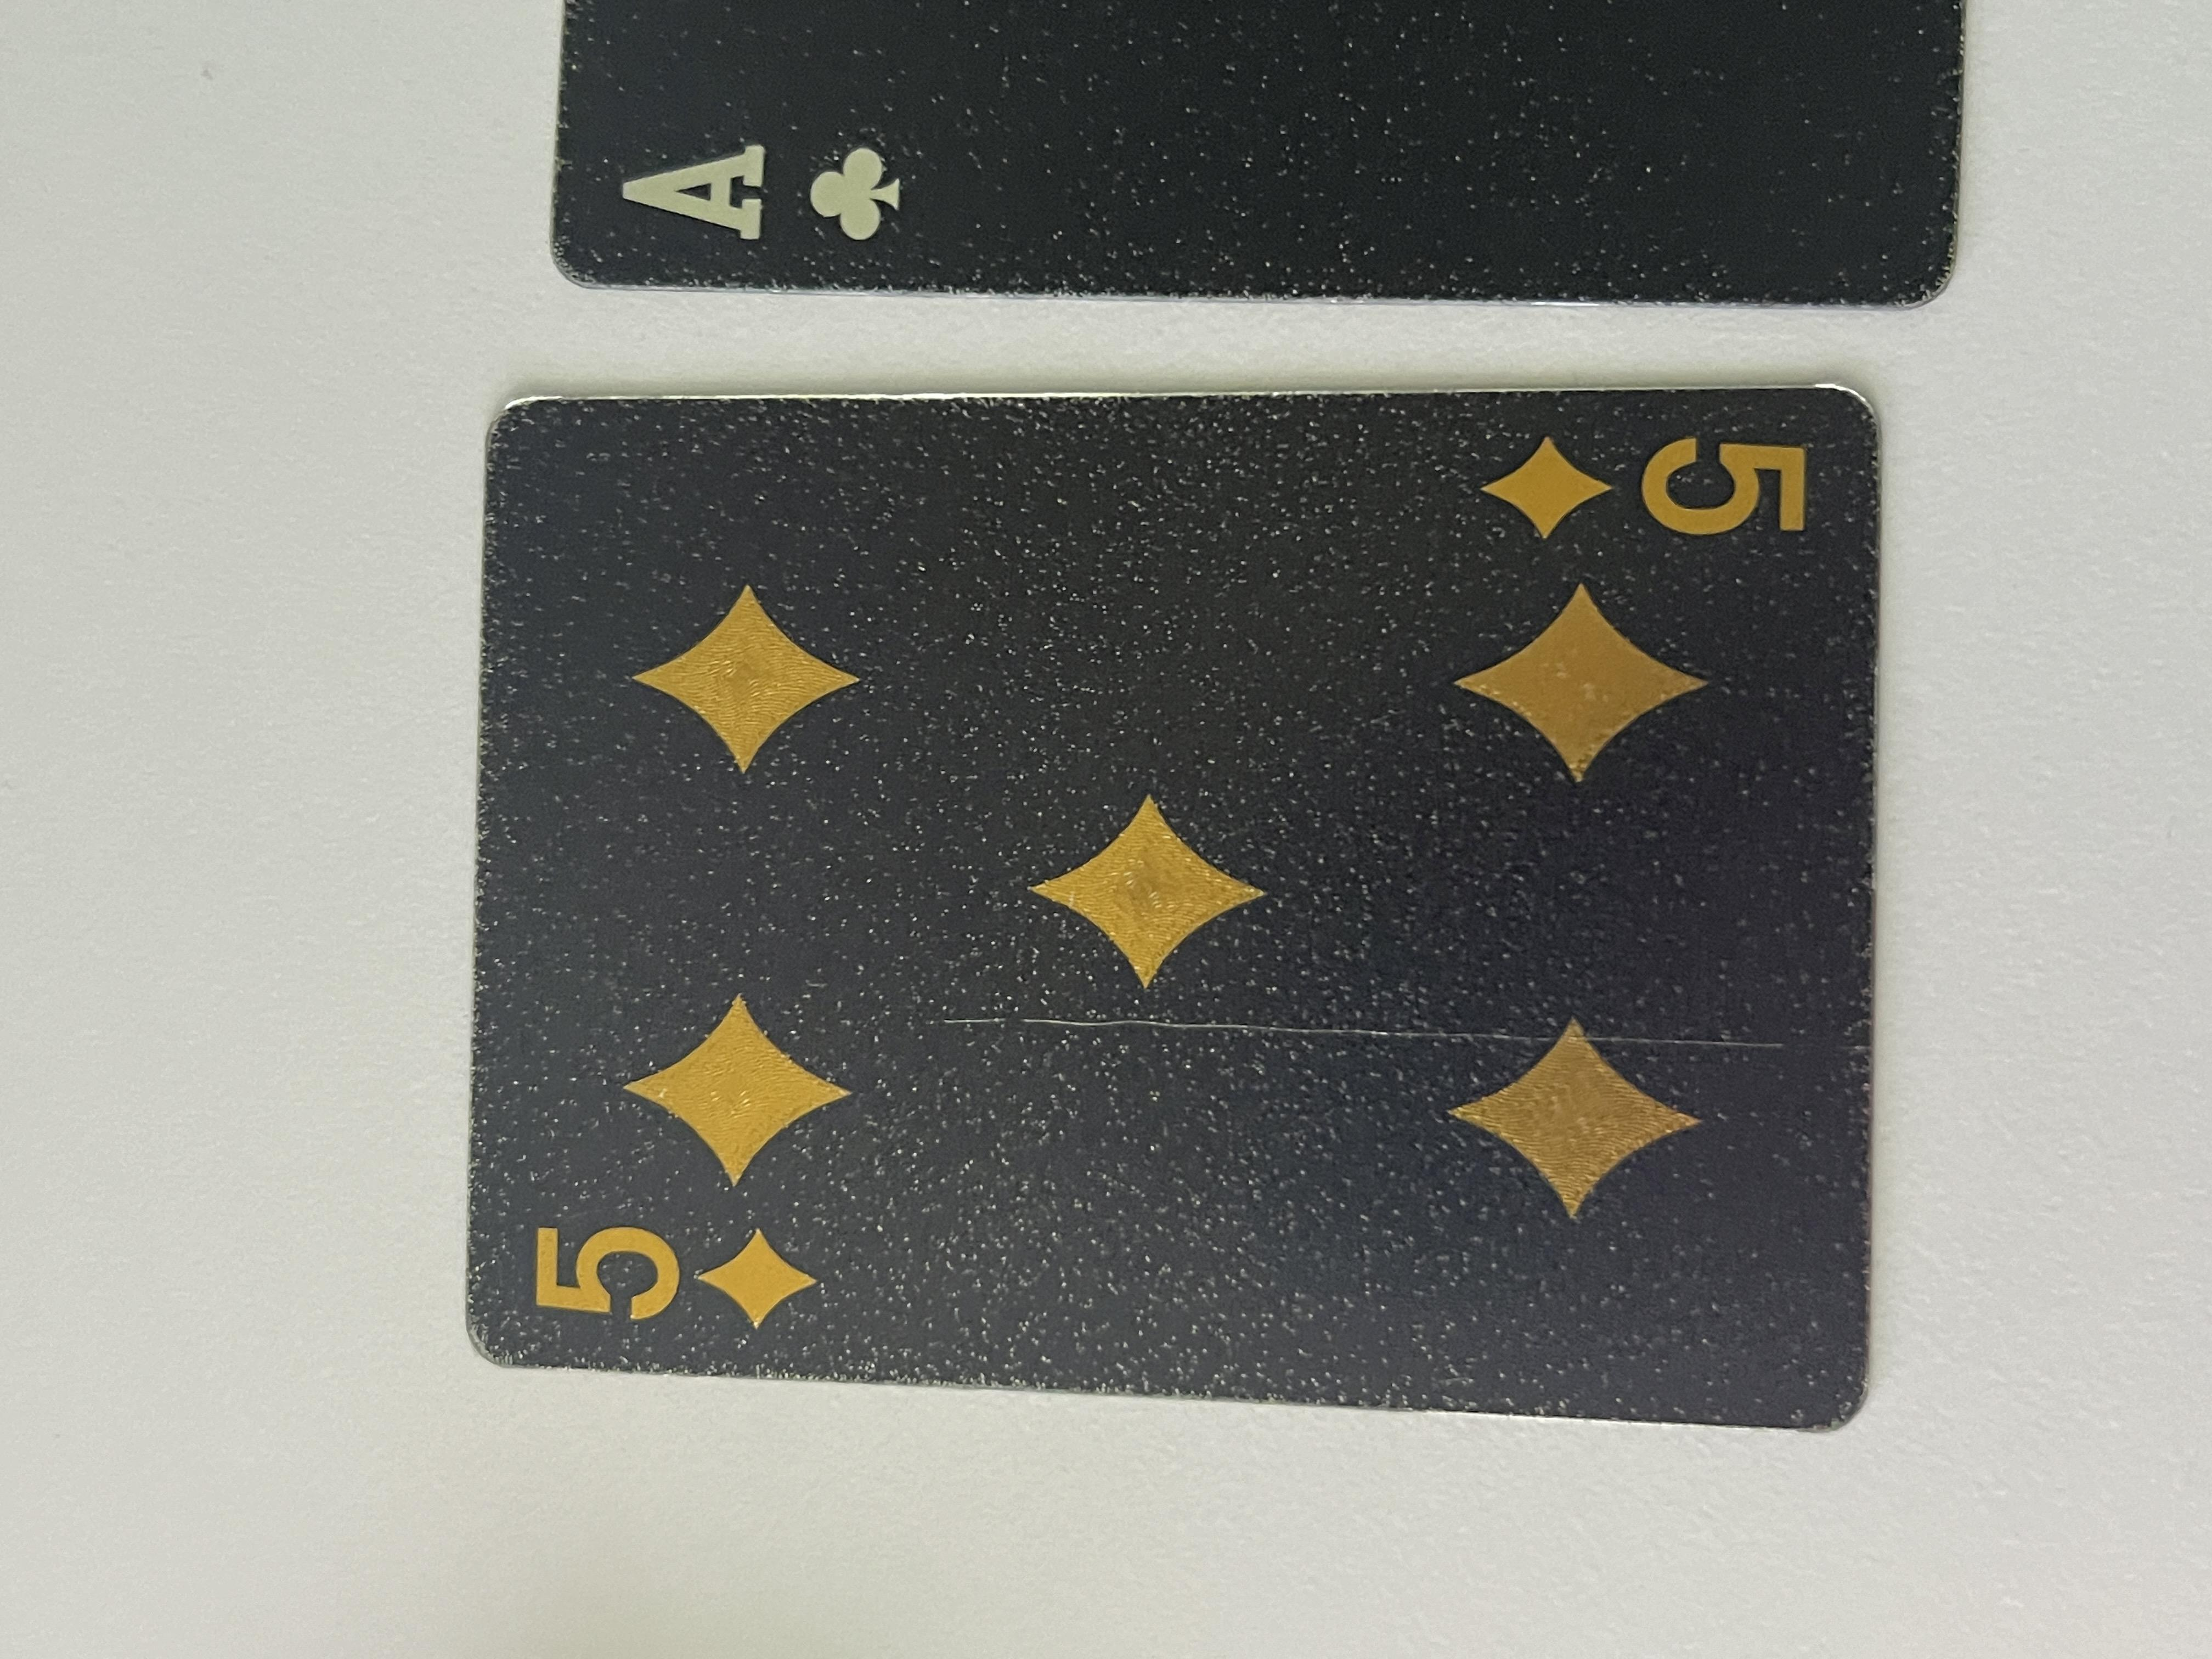5D: (1463, 1094, 1672, 1363), (399, 378, 608, 619)
AC: (1855, 436, 2088, 716)
